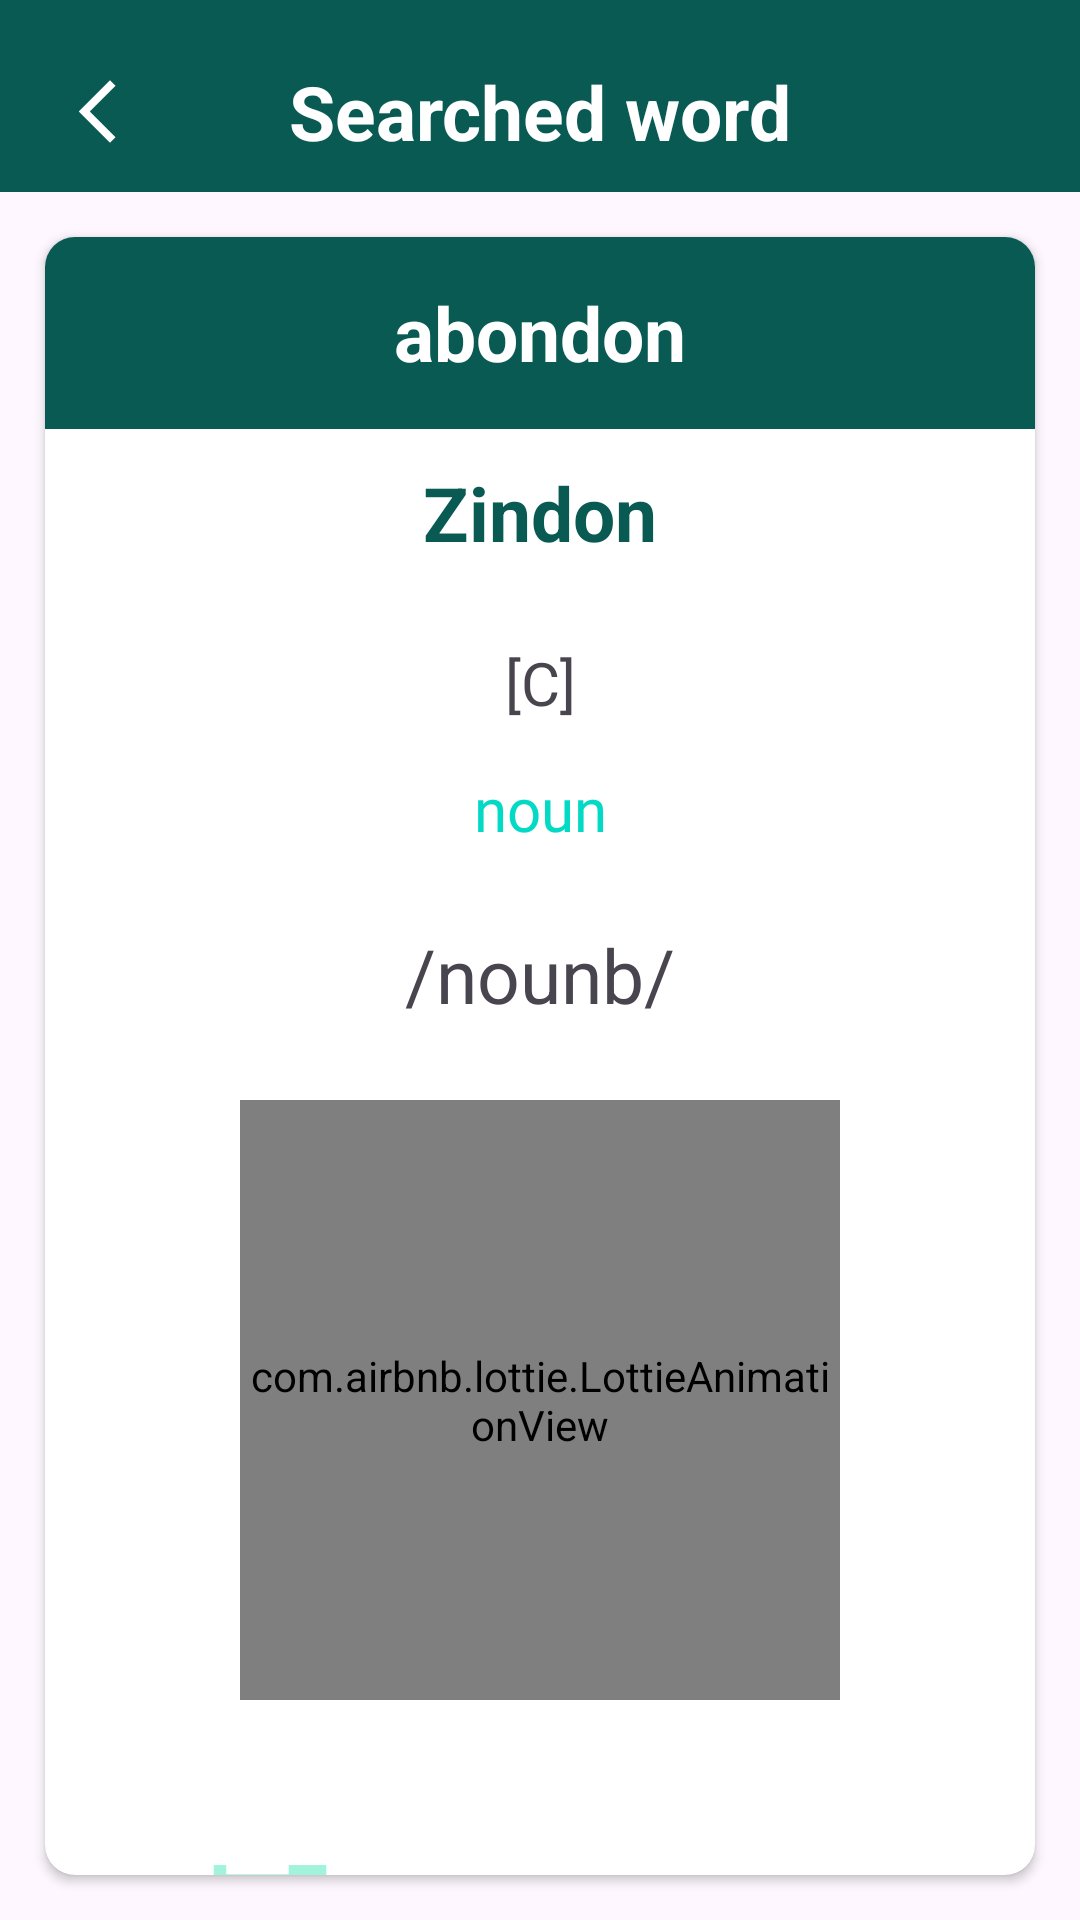

Point at icon controls on the screen. Image size 1080*1920, points as point (x, y).
arrow back: point (97, 111)
